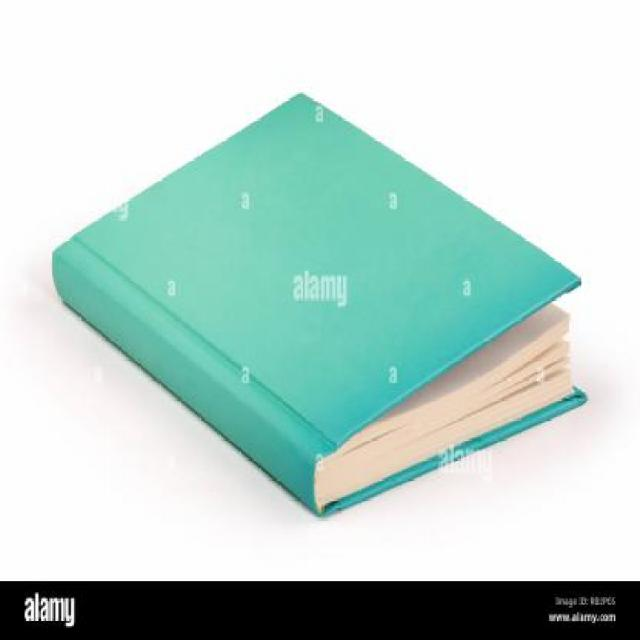book: (31, 62, 619, 534)
